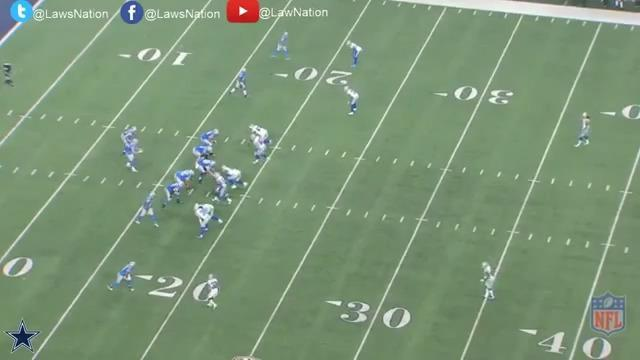defense: (479, 262, 500, 306), (250, 128, 269, 167), (192, 203, 224, 226), (210, 172, 232, 205), (573, 112, 592, 150), (195, 205, 214, 241), (220, 166, 249, 189), (205, 272, 222, 311), (345, 84, 361, 117), (249, 124, 272, 146), (348, 41, 363, 72)
oline: (163, 182, 187, 209), (196, 158, 219, 182), (190, 143, 212, 168), (173, 169, 195, 192), (199, 128, 220, 146)
qb: (126, 135, 141, 175)
skill: (132, 189, 161, 229), (107, 260, 137, 293), (229, 66, 253, 99), (271, 31, 293, 63), (119, 125, 136, 159)
